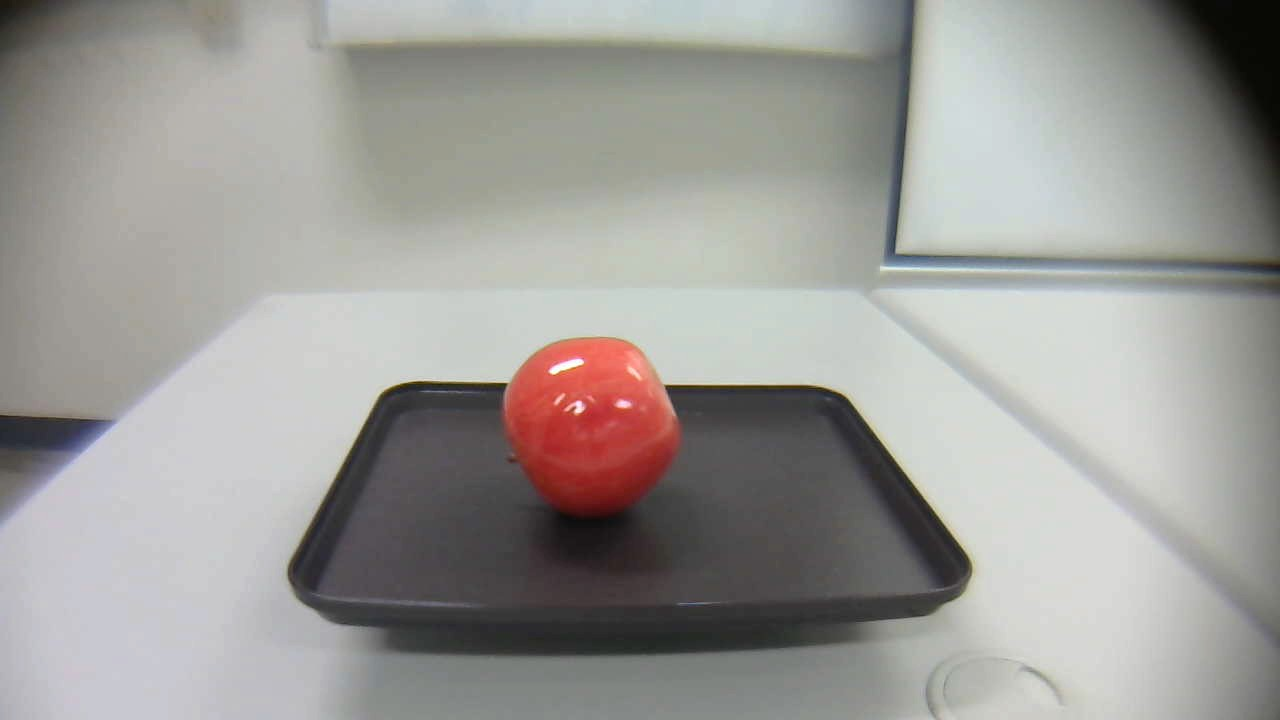red apple: (493, 334, 696, 526)
